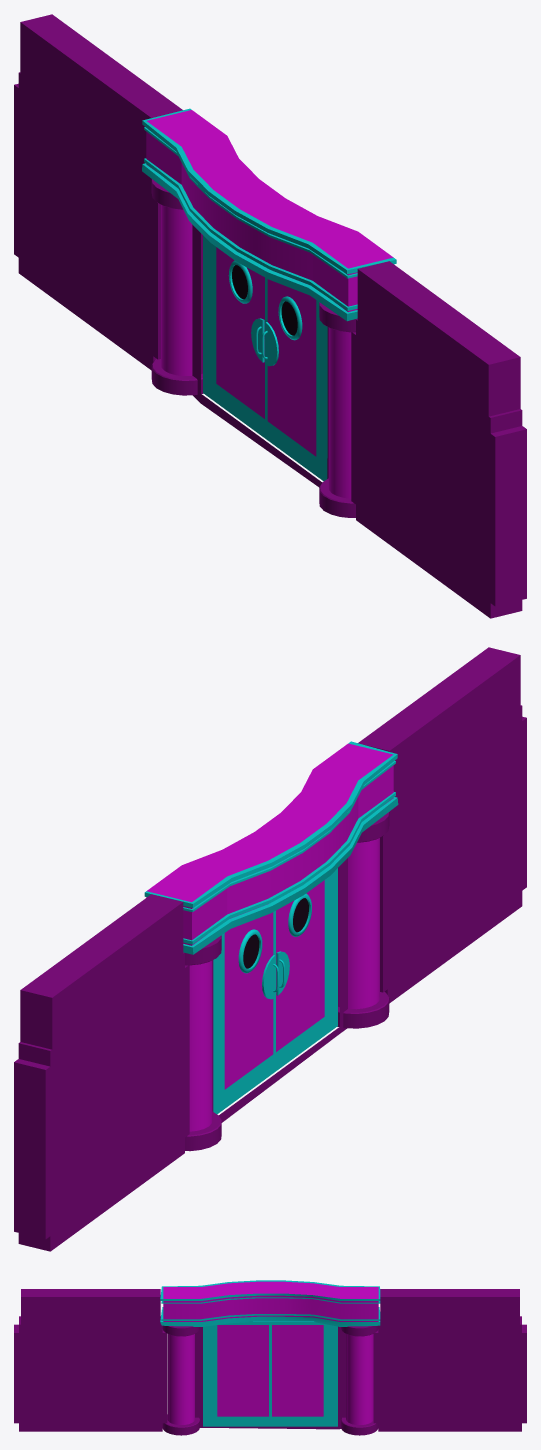
The model's file is WW_CinemaRoom_Env_01.fbx.
3 renders of one model, top to bottom at view 1: azimuth 30°, elevation 25°; view 2: azimuth 150°, elevation 25°; view 3: azimuth 270°, elevation 25°, orthographic. The views are drawn at different scales.
Parts seen in each view (by area): view 1: WW_CinemaCorrodorWall_02, WW_CinemaCorrodorWall_01, CinemaRoomTop_geo_01, Door_geo_01 (×2), CinemaRoomPillar_geo_02, CinemaRoomPillar_geo_01, Doortrim_geo_01, CinemaRoomBase_geo_01; view 2: WW_CinemaCorrodorWall_01, WW_CinemaCorrodorWall_02, CinemaRoomTop_geo_01, Door_geo_01 (×2), CinemaRoomPillar_geo_01, CinemaRoomPillar_geo_02, Doortrim_geo_01, CinemaRoomBase_geo_01; view 3: WW_CinemaCorrodorWall_02, WW_CinemaCorrodorWall_01, Door_geo_01 (×2), CinemaRoomTop_geo_01, Doortrim_geo_01, CinemaRoomPillar_geo_01, CinemaRoomPillar_geo_02, CinemaRoomBase_geo_01.
Boxes of the visible parts, box(x1,y1,x2,y2) form: WW_CinemaCorrodorWall_02: box(351, 261, 526, 618); WW_CinemaCorrodorWall_01: box(14, 14, 182, 370); CinemaRoomTop_geo_01: box(142, 108, 396, 321); Door_geo_01 (×2): box(216, 247, 316, 475); CinemaRoomPillar_geo_02: box(151, 179, 203, 395); CinemaRoomPillar_geo_01: box(319, 302, 357, 517); Doortrim_geo_01: box(203, 235, 327, 481); CinemaRoomBase_geo_01: box(193, 225, 328, 487); WW_CinemaCorrodorWall_01: box(14, 894, 189, 1251); WW_CinemaCorrodorWall_02: box(358, 647, 526, 1003); CinemaRoomTop_geo_01: box(144, 741, 398, 954); Door_geo_01 (×2): box(224, 880, 324, 1108); CinemaRoomPillar_geo_01: box(337, 812, 389, 1028); CinemaRoomPillar_geo_02: box(185, 935, 221, 1151); Doortrim_geo_01: box(213, 868, 337, 1114); CinemaRoomBase_geo_01: box(212, 858, 347, 1122); WW_CinemaCorrodorWall_02: box(14, 1289, 167, 1431); WW_CinemaCorrodorWall_01: box(373, 1289, 526, 1431); Door_geo_01 (×2): box(217, 1325, 323, 1426); CinemaRoomTop_geo_01: box(160, 1280, 380, 1326); Doortrim_geo_01: box(203, 1321, 337, 1426); CinemaRoomPillar_geo_01: box(162, 1325, 199, 1435); CinemaRoomPillar_geo_02: box(341, 1326, 378, 1435); CinemaRoomBase_geo_01: box(195, 1326, 345, 1429).
Size of the model in its own units: 109 by 341 by 1149.
